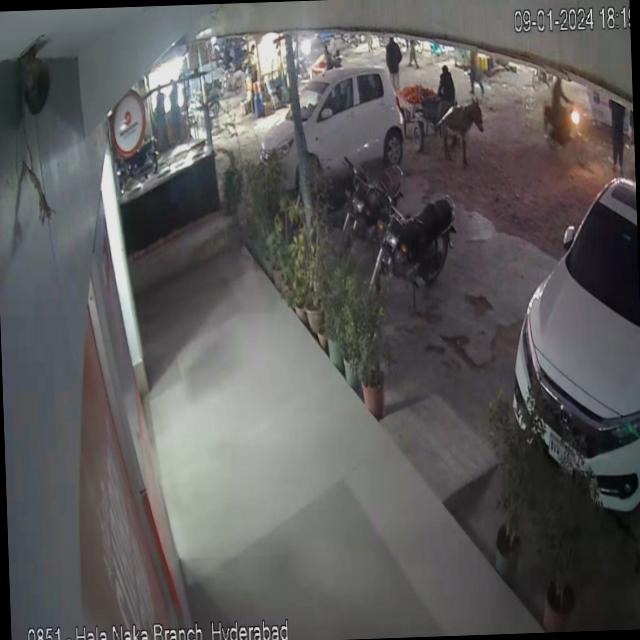Car: (500, 130, 640, 528), (236, 50, 410, 180)
Motorcycle: (355, 188, 462, 297), (341, 153, 412, 250)
